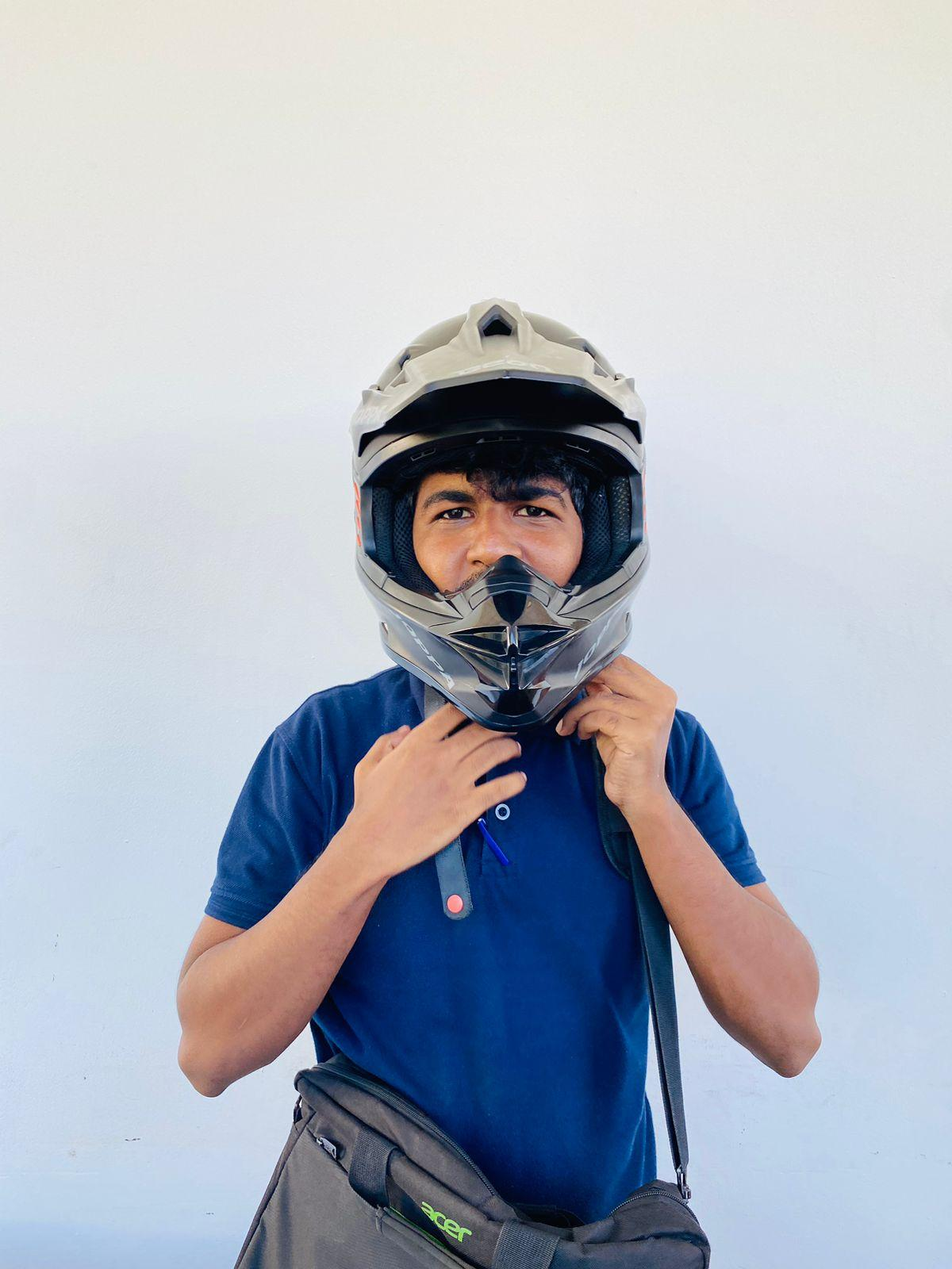helmet: (344, 305, 651, 741)
